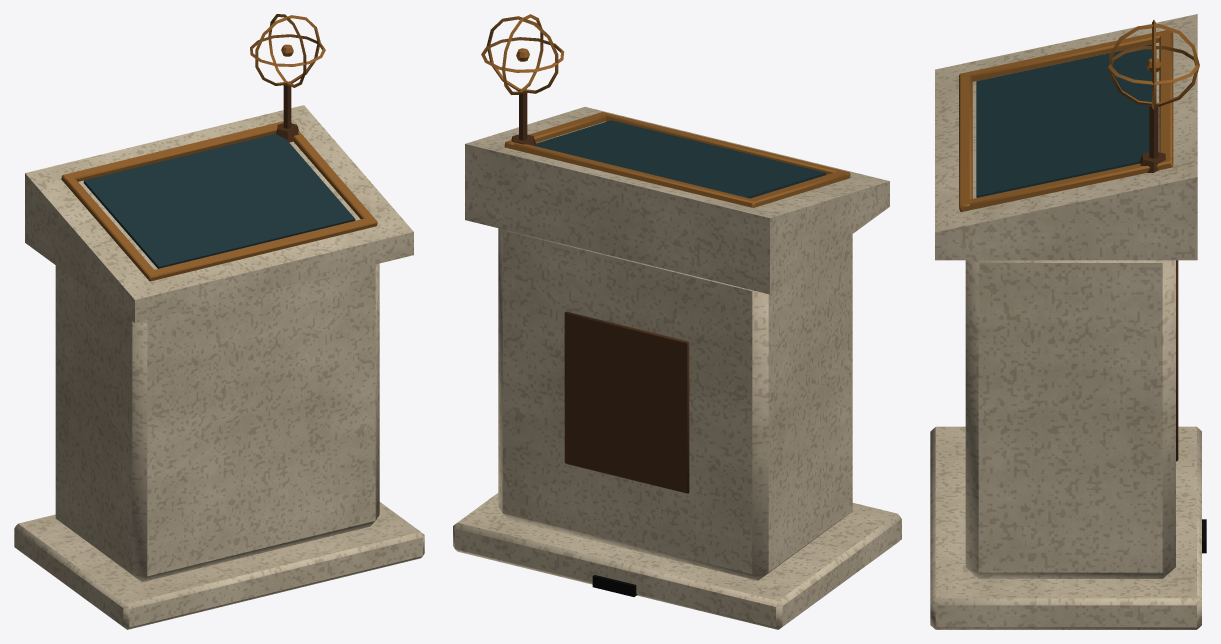
File: observatory-forecast-plinth.lod1.glb
The picture shows the model from 3 angles, left to right: view 1: azimuth 30°, elevation 25°; view 2: azimuth 150°, elevation 25°; view 3: azimuth 270°, elevation 25°; orthographic projection. The views are drawn at different scales.
Parts seen in each view (by area): view 1: observatory_forecast_plinth_Stone • warm limestone, observatory_forecast_plinth_panel_slot, observatory_forecast_plinth_Trim • places palette; view 2: observatory_forecast_plinth_Stone • warm limestone, observatory_forecast_plinth_Trim • places palette, observatory_forecast_plinth_panel_slot; view 3: observatory_forecast_plinth_Stone • warm limestone, observatory_forecast_plinth_panel_slot, observatory_forecast_plinth_Trim • places palette.
Boxes of the visible parts, bbox=[...] form: observatory_forecast_plinth_Stone • warm limestone: bbox=[14, 105, 424, 629]; observatory_forecast_plinth_panel_slot: bbox=[83, 133, 355, 268]; observatory_forecast_plinth_Trim • places palette: bbox=[61, 14, 377, 281]; observatory_forecast_plinth_Stone • warm limestone: bbox=[453, 107, 901, 629]; observatory_forecast_plinth_Trim • places palette: bbox=[481, 14, 850, 596]; observatory_forecast_plinth_panel_slot: bbox=[535, 120, 825, 198]; observatory_forecast_plinth_Stone • warm limestone: bbox=[930, 14, 1201, 629]; observatory_forecast_plinth_panel_slot: bbox=[976, 44, 1156, 197]; observatory_forecast_plinth_Trim • places palette: bbox=[959, 20, 1206, 553].
Size of the model in its own units: 0.95 by 1.46 by 0.63.
3 materials, 2 textured.
